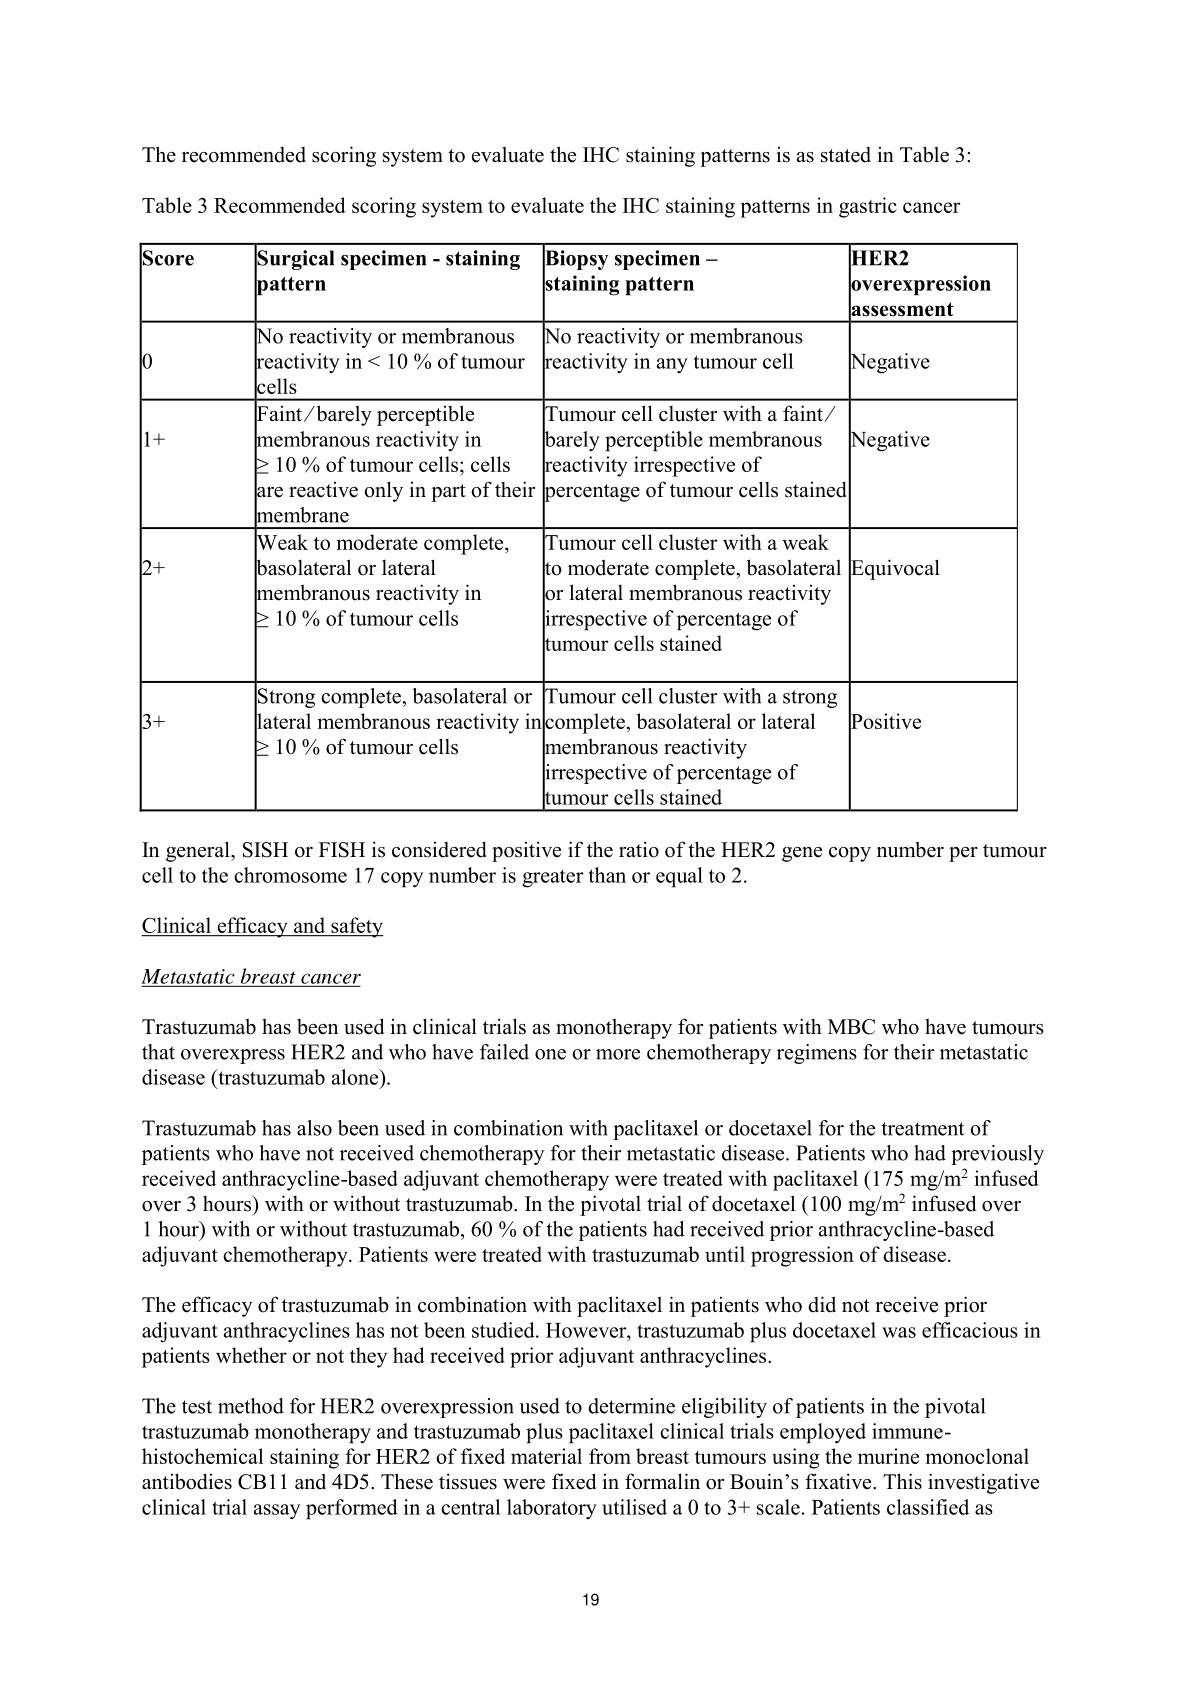full_lined: (138, 242, 1018, 812)
